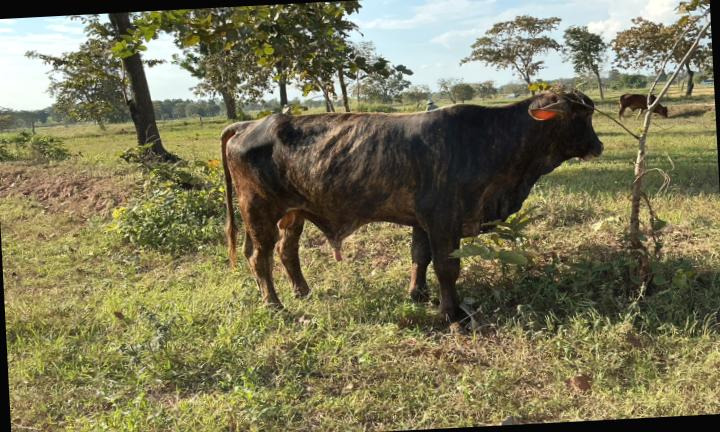Charolais: (220, 91, 602, 318)
